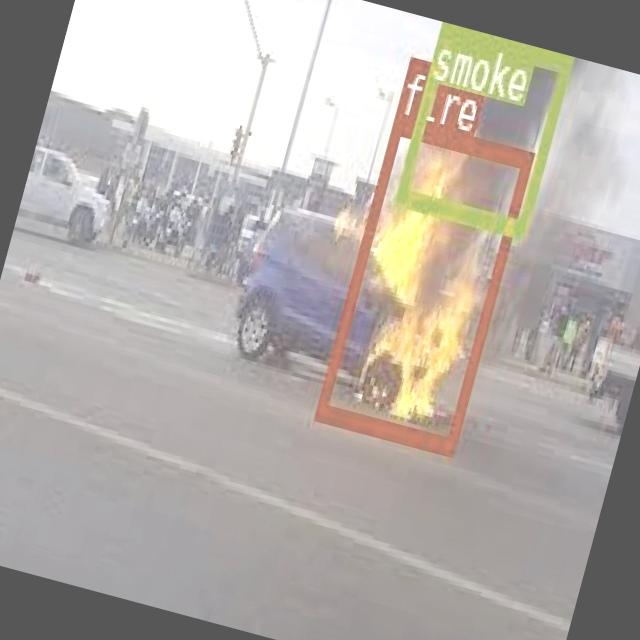fire: (314, 112, 534, 453)
smoke: (393, 21, 571, 233)
